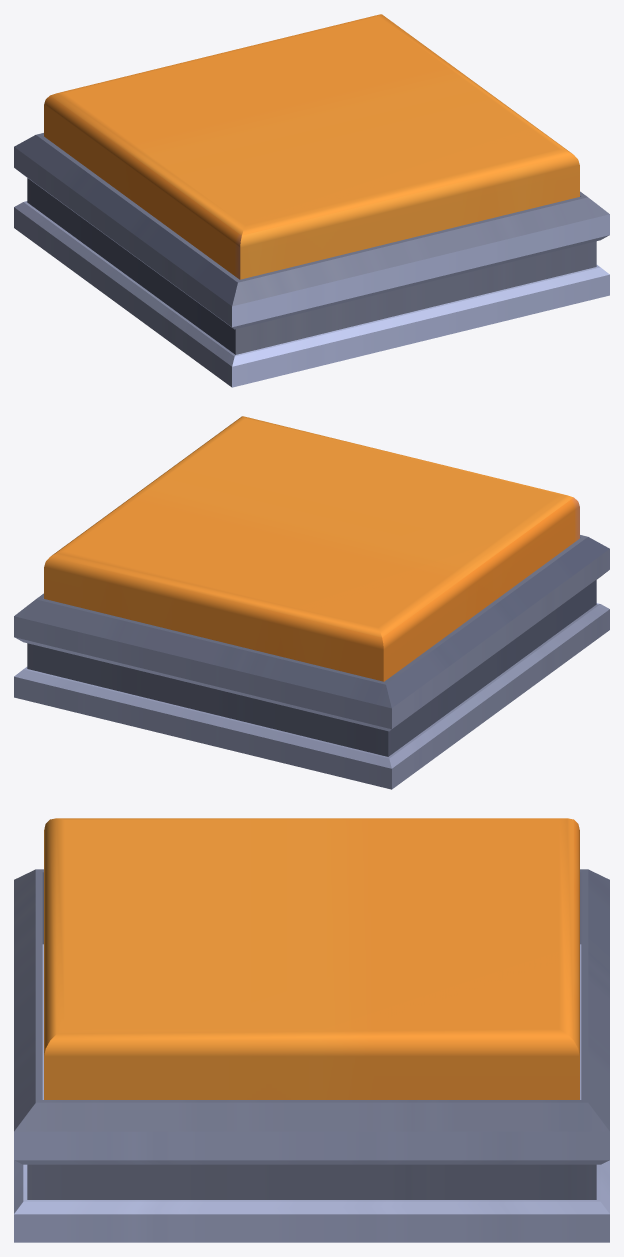
File: button.glb
The picture shows the model from 3 angles, top to bottom: view 1: azimuth 30°, elevation 25°; view 2: azimuth 150°, elevation 25°; view 3: azimuth 270°, elevation 25°; orthographic projection. The views are drawn at different scales.
Parts seen in each view (by area): view 1: Button Pad, Button Base; view 2: Button Pad, Button Base; view 3: Button Pad, Button Base.
Boxes of the visible parts, x1=… form: Button Pad: x1=44, y1=14, x2=579, y2=279; Button Base: x1=14, y1=133, x2=609, y2=387; Button Pad: x1=44, y1=416, x2=579, y2=681; Button Base: x1=14, y1=535, x2=609, y2=789; Button Pad: x1=44, y1=818, x2=579, y2=1099; Button Base: x1=14, y1=869, x2=609, y2=1242.
Bounding box in the file's own units: 4 × 1.42 × 4.
2 materials, 2 textured.
